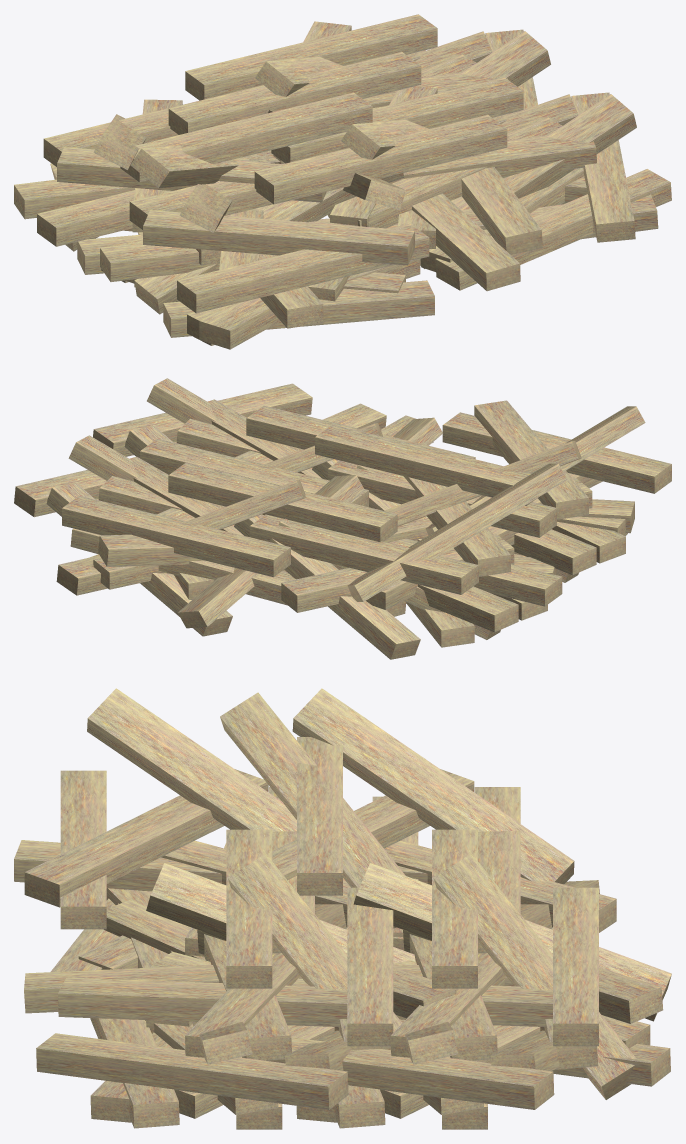
File: Poteto1.FBX
3 views of the same model, one above another, from view 1: azimuth 30°, elevation 25°; view 2: azimuth 150°, elevation 25°; view 3: azimuth 270°, elevation 25° (orthographic). The views are drawn at different scales.
Visible parts, largest first — view 1: Box041, Box056, Box038, Box020, Box002, Box011, Box047, Box060, Box071, Box063, Box069, Box070 (+35 smaller); view 2: Box011, Box038, Box004, Box020, Box019, Box002, Box007, Box041, Box047, Box069, Box040, Box028 (+36 smaller); view 3: Box019, Box069, Box055, Box010, Box066, Box041, Box033, Box037, Box011, Box046, Box038, Box047 (+40 smaller).
Boxes of the visible parts, bbox=[...] form: Box041: bbox=[143, 210, 414, 265]; Box056: bbox=[254, 114, 507, 204]; Box038: bbox=[120, 92, 372, 182]; Box020: bbox=[168, 52, 421, 134]; Box002: bbox=[177, 223, 429, 313]; Box011: bbox=[185, 14, 437, 100]; Box047: bbox=[271, 77, 523, 163]; Box060: bbox=[412, 193, 520, 291]; Box071: bbox=[435, 169, 671, 290]; Box063: bbox=[163, 280, 434, 337]; Box069: bbox=[571, 92, 635, 242]; Box070: bbox=[420, 94, 636, 268]; Box011: bbox=[62, 495, 290, 577]; Box038: bbox=[315, 424, 538, 505]; Box004: bbox=[249, 514, 478, 594]; Box020: bbox=[168, 462, 397, 541]; Box019: bbox=[347, 463, 567, 601]; Box002: bbox=[442, 412, 671, 493]; Box007: bbox=[234, 514, 420, 659]; Box041: bbox=[474, 400, 588, 519]; Box047: bbox=[140, 438, 368, 507]; Box069: bbox=[93, 383, 312, 456]; Box040: bbox=[327, 460, 556, 537]; Box028: bbox=[177, 475, 364, 628]; Box019: bbox=[292, 688, 574, 884]; Box069: bbox=[36, 1033, 348, 1109]; Box055: bbox=[87, 688, 345, 880]; Box010: bbox=[433, 853, 636, 1099]; Box066: bbox=[57, 977, 347, 1026]; Box041: bbox=[24, 769, 268, 907]; Box033: bbox=[242, 1037, 554, 1109]; Box037: bbox=[220, 692, 405, 928]; Box011: bbox=[553, 887, 598, 1046]; Box046: bbox=[228, 853, 401, 1032]; Box038: bbox=[297, 737, 342, 895]; Box047: bbox=[347, 887, 393, 1046].
Size of the model in its own units: 17.78 by 15.79 by 5.3.
Materials: 1 (1 with a texture image).
